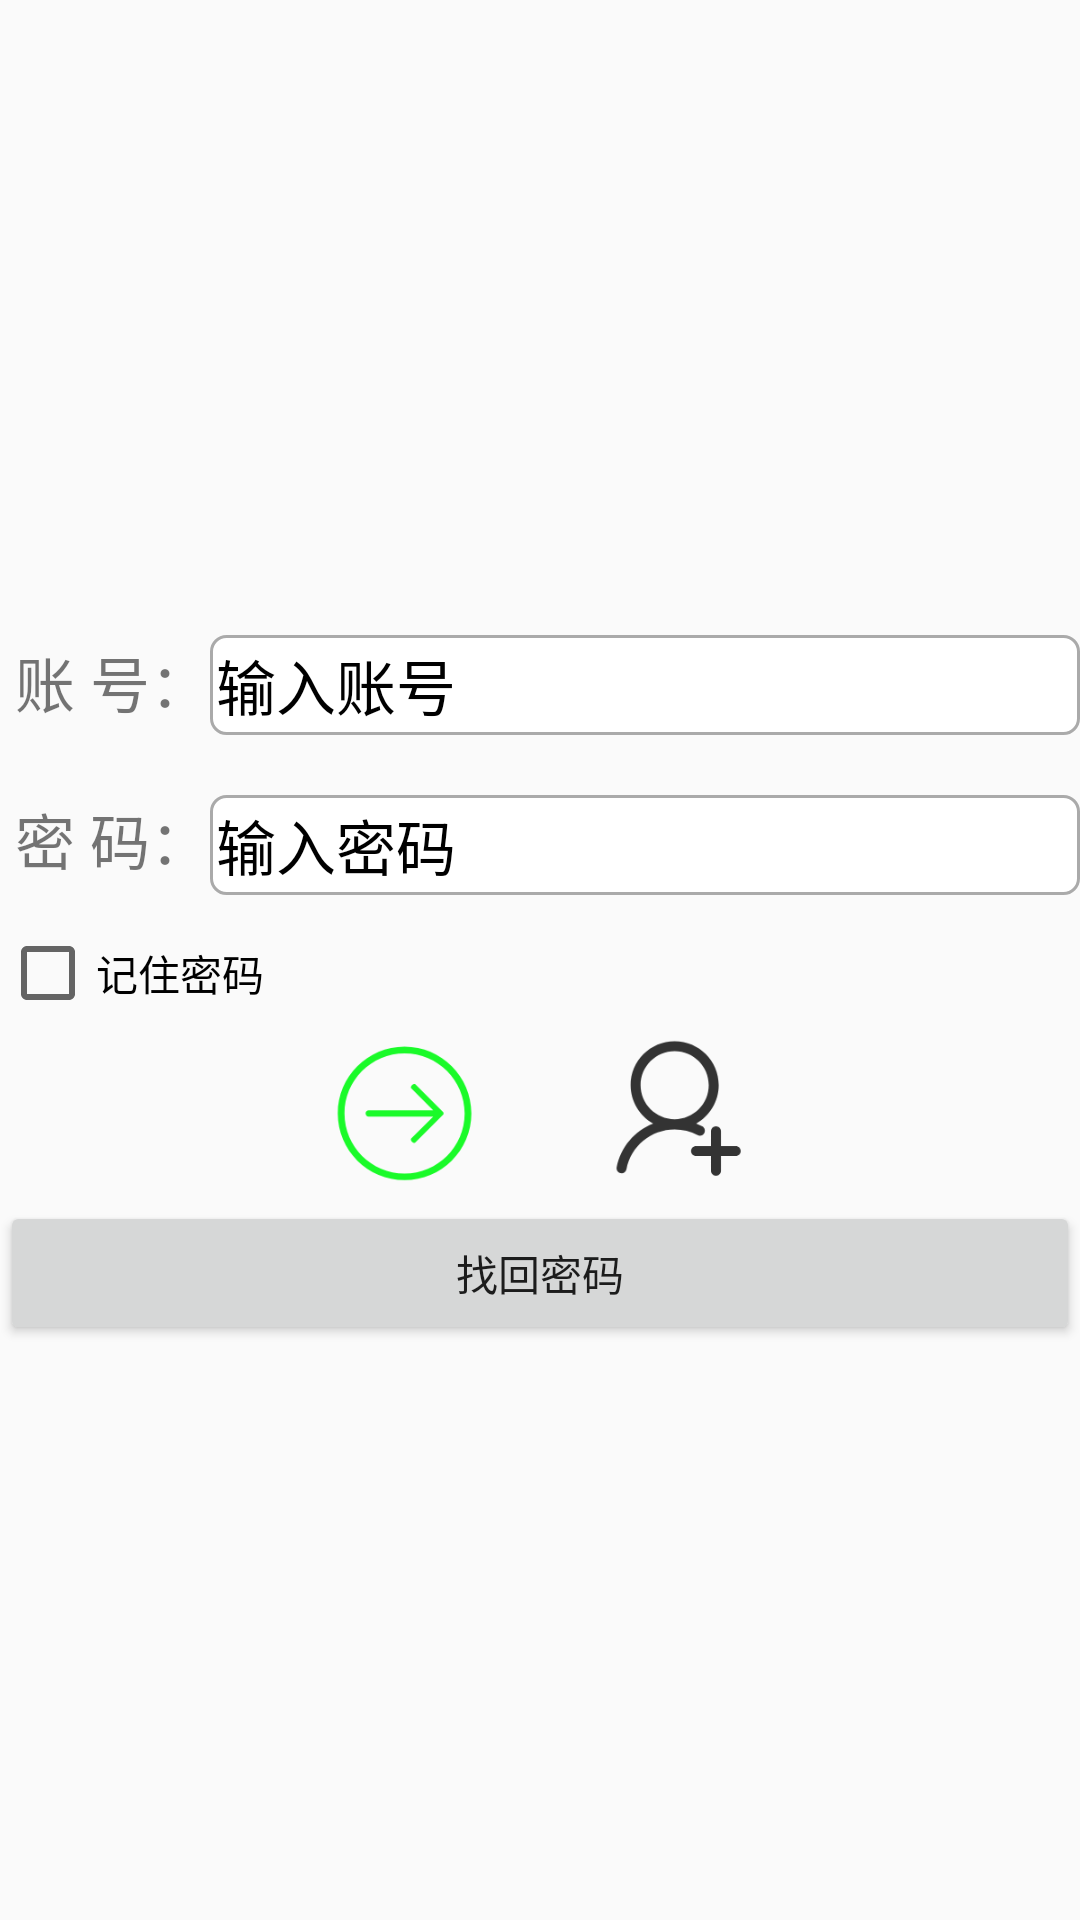

Locate icon controls on the screen. Image size 1080w x 1920h, boxes as (x1, y1, x2, y2).
login: (337, 1046, 472, 1181)
regeister: (616, 1041, 741, 1176)
